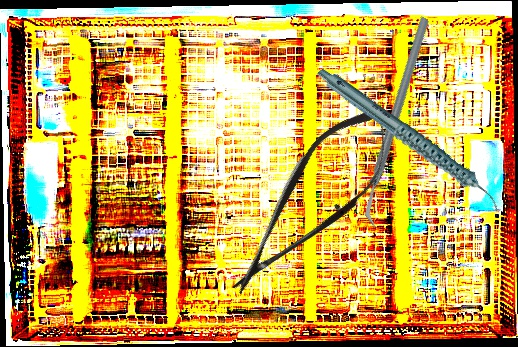Chopper: (297, 15, 499, 229)
Handpiece: (315, 36, 504, 244)
Micro Scissor: (208, 88, 416, 315)
